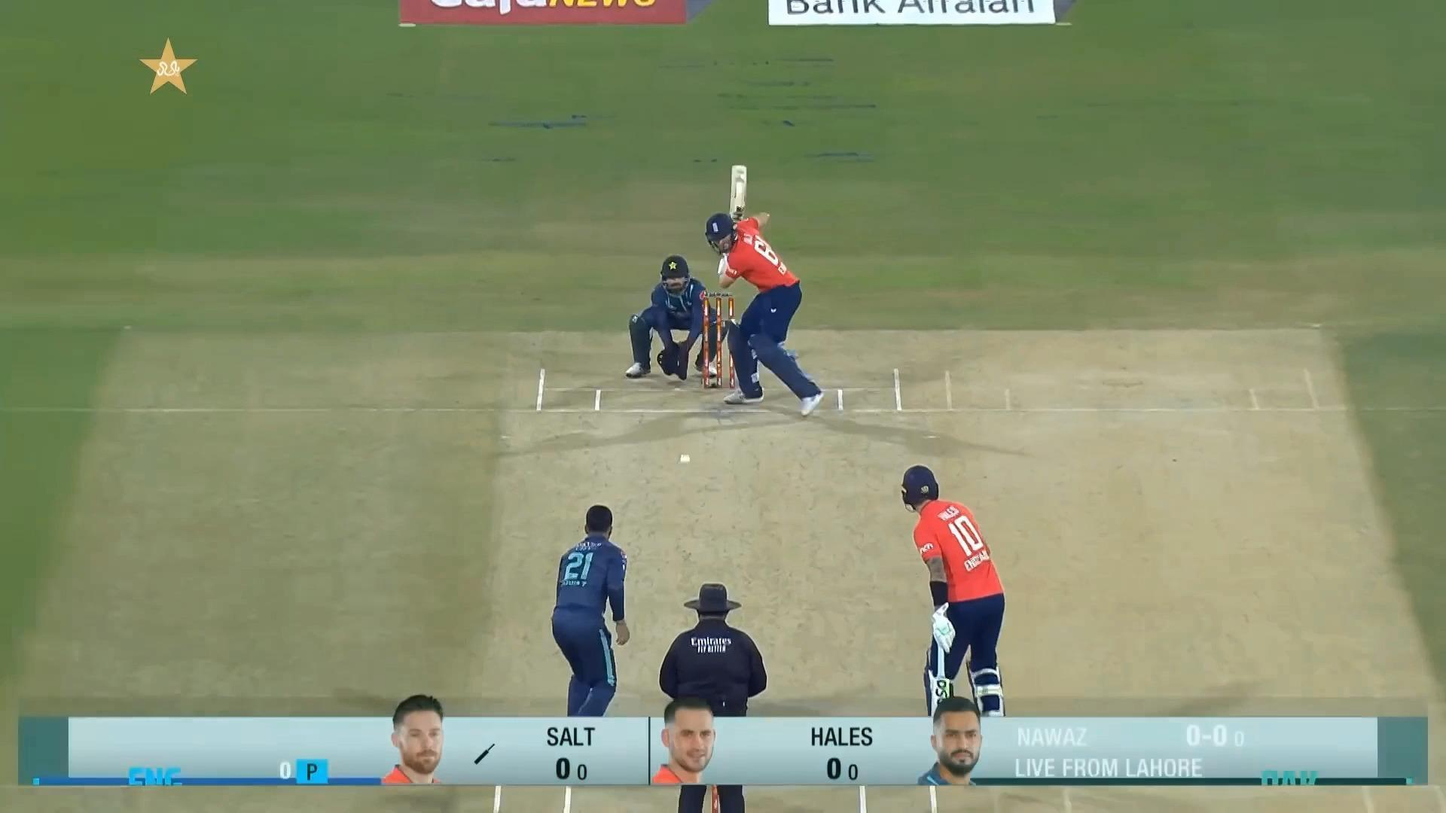BM 1: (704, 163, 825, 418)
BO: (550, 505, 630, 718)
